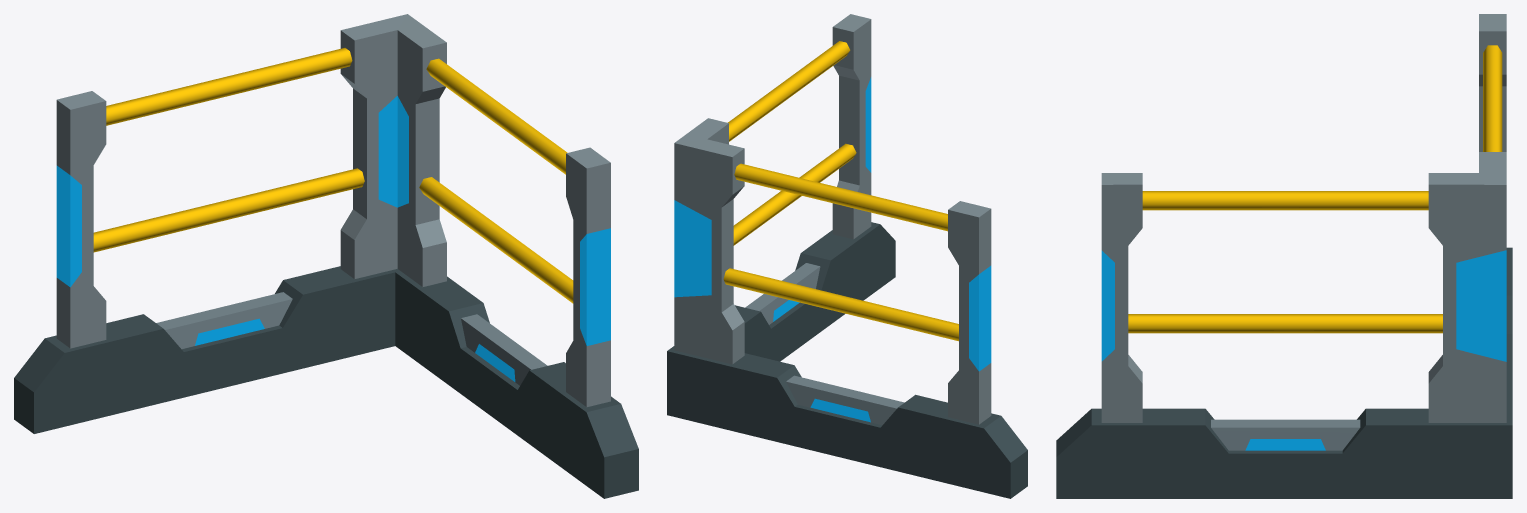
The model's file is Fence_type_C_011.glb.
The picture shows the model from 3 angles, left to right: view 1: azimuth 30°, elevation 25°; view 2: azimuth 150°, elevation 25°; view 3: azimuth 270°, elevation 25°; orthographic projection. The views are drawn at different scales.
Visible parts, largest first — view 1: Fence_type_C_011; view 2: Fence_type_C_011; view 3: Fence_type_C_011.
Part boxes in pixels (left/top/right/bottom): Fence_type_C_011: left=14, top=14, right=638, bottom=498; Fence_type_C_011: left=667, top=14, right=1027, bottom=498; Fence_type_C_011: left=1056, top=14, right=1512, bottom=498.
Size of the model in its own units: 1.89 by 1.42 by 1.89.
2 materials, 2 textured.
